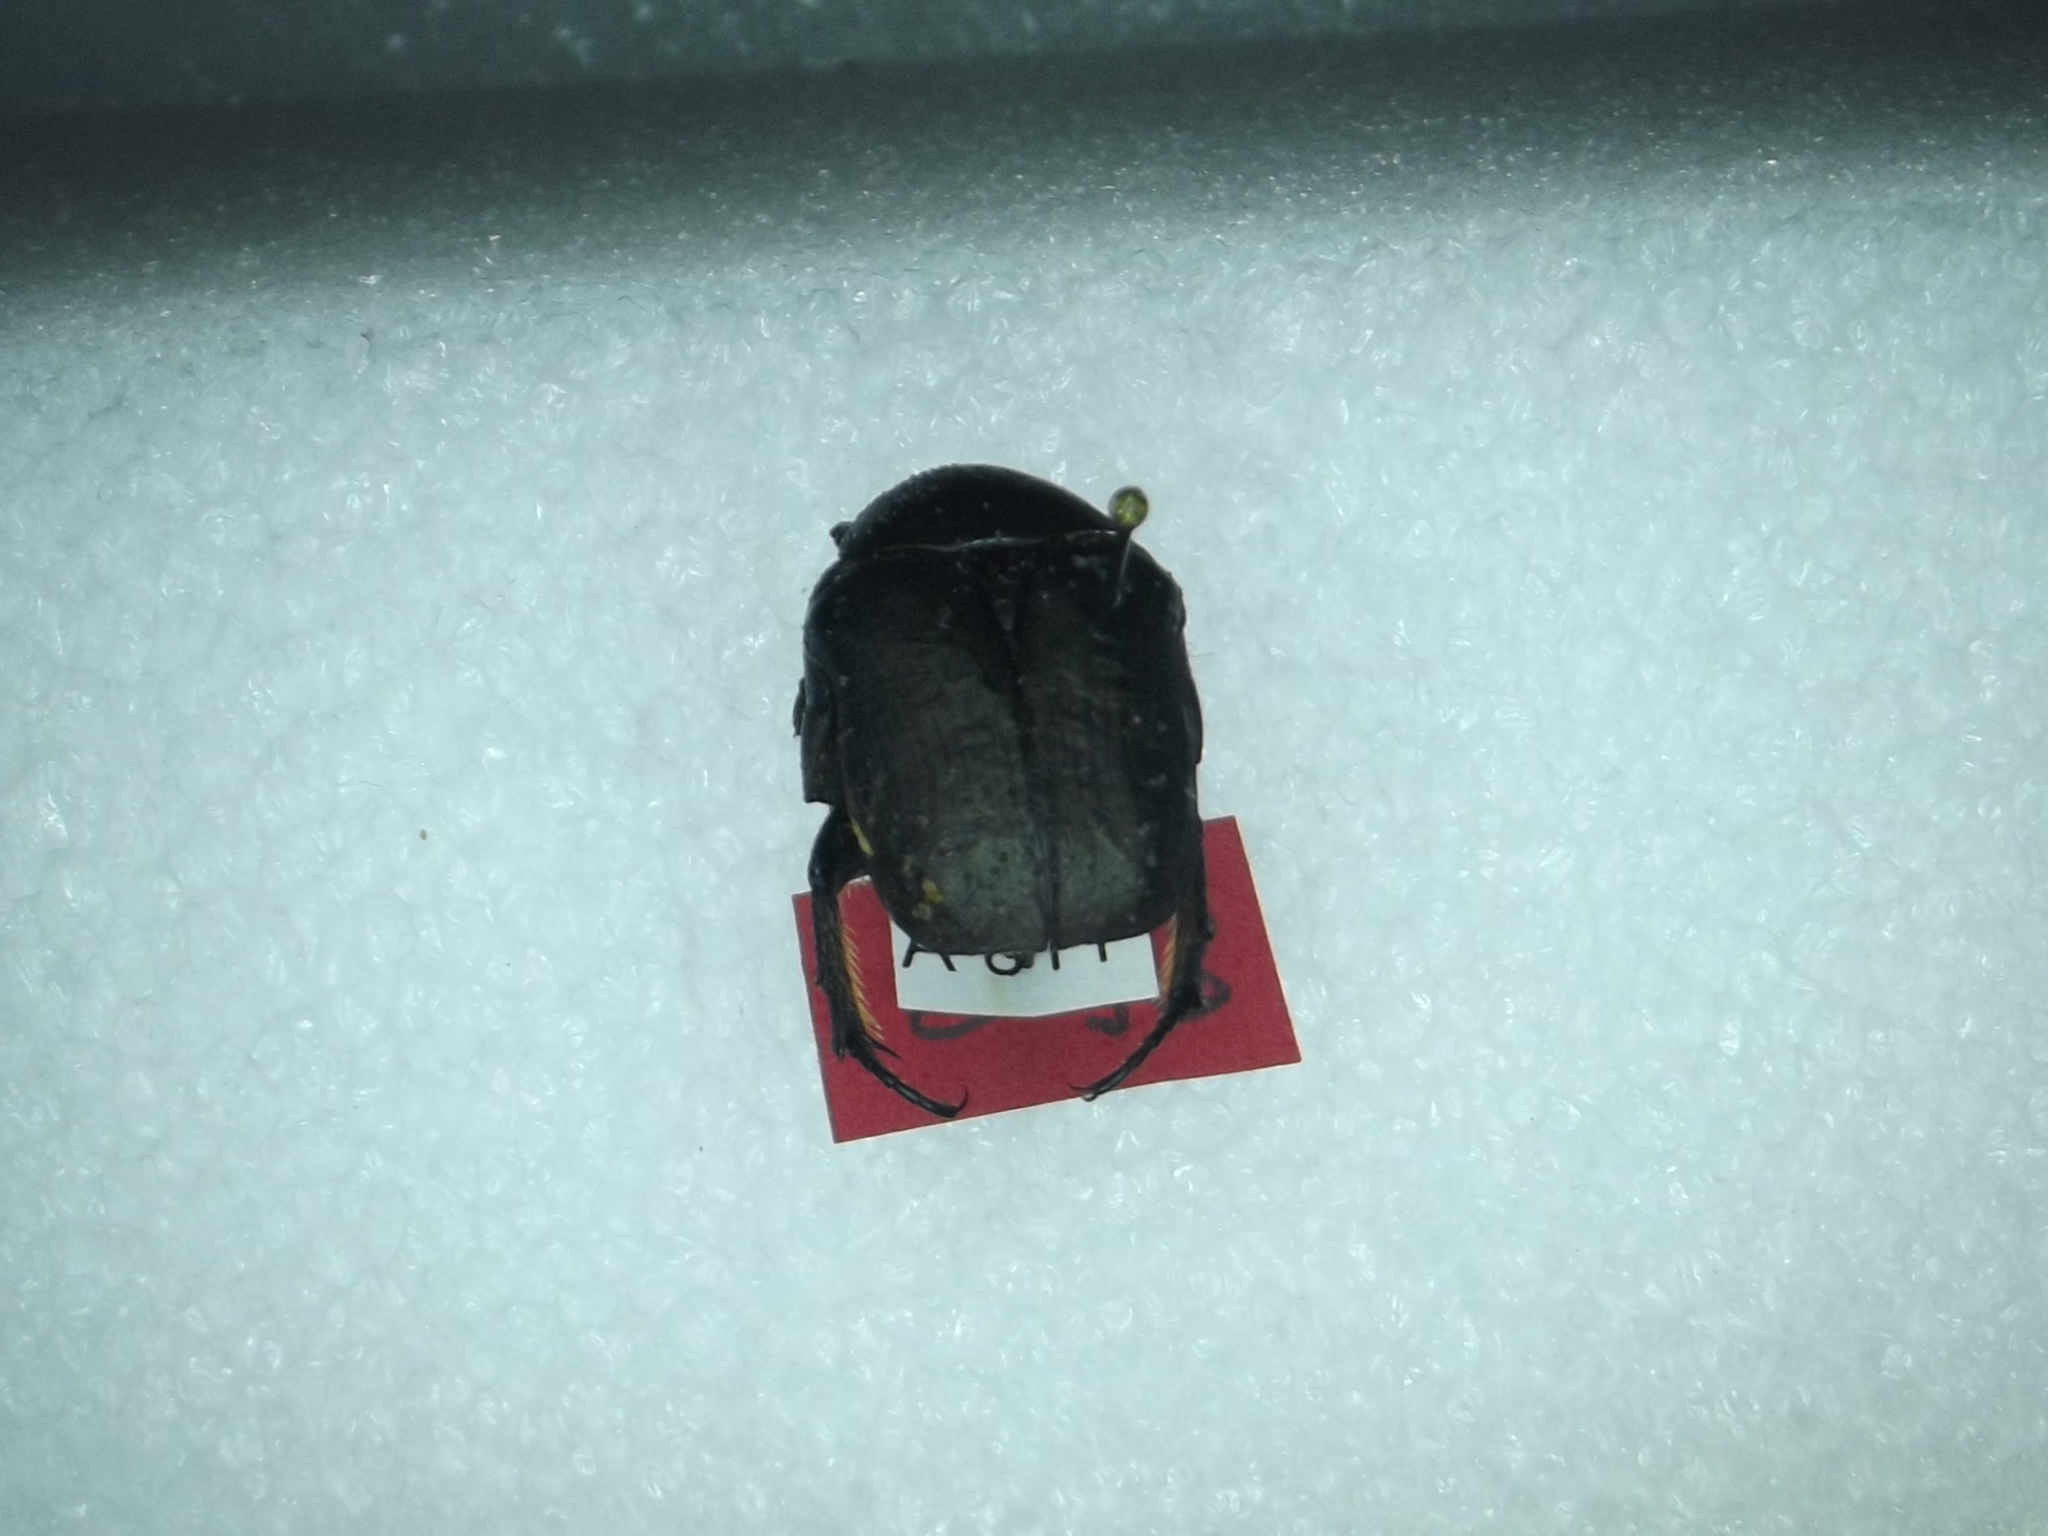Protaetia_oblonga: (784, 439, 1238, 1133)
